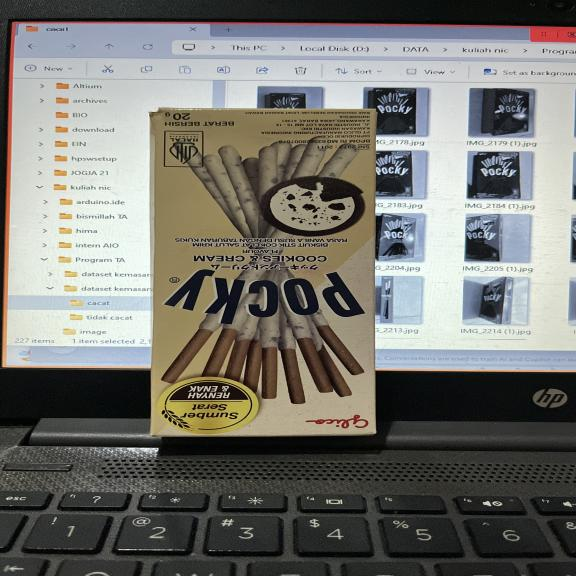Kertas: (152, 113, 371, 437)
